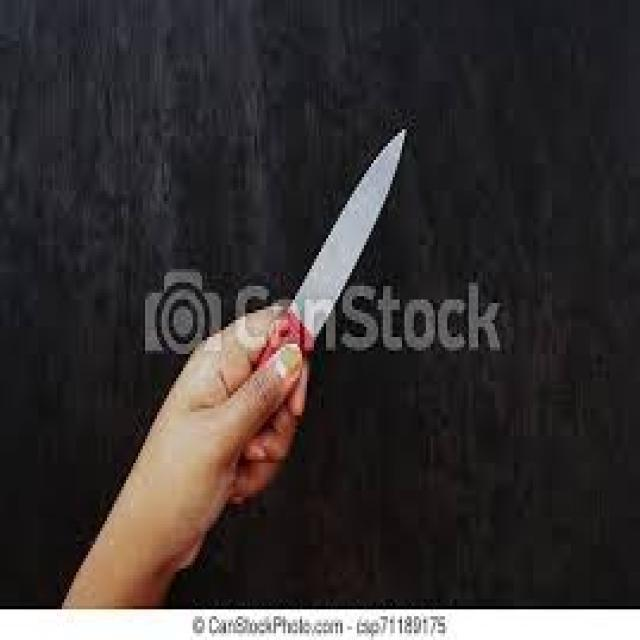faca: (174, 123, 412, 542)
